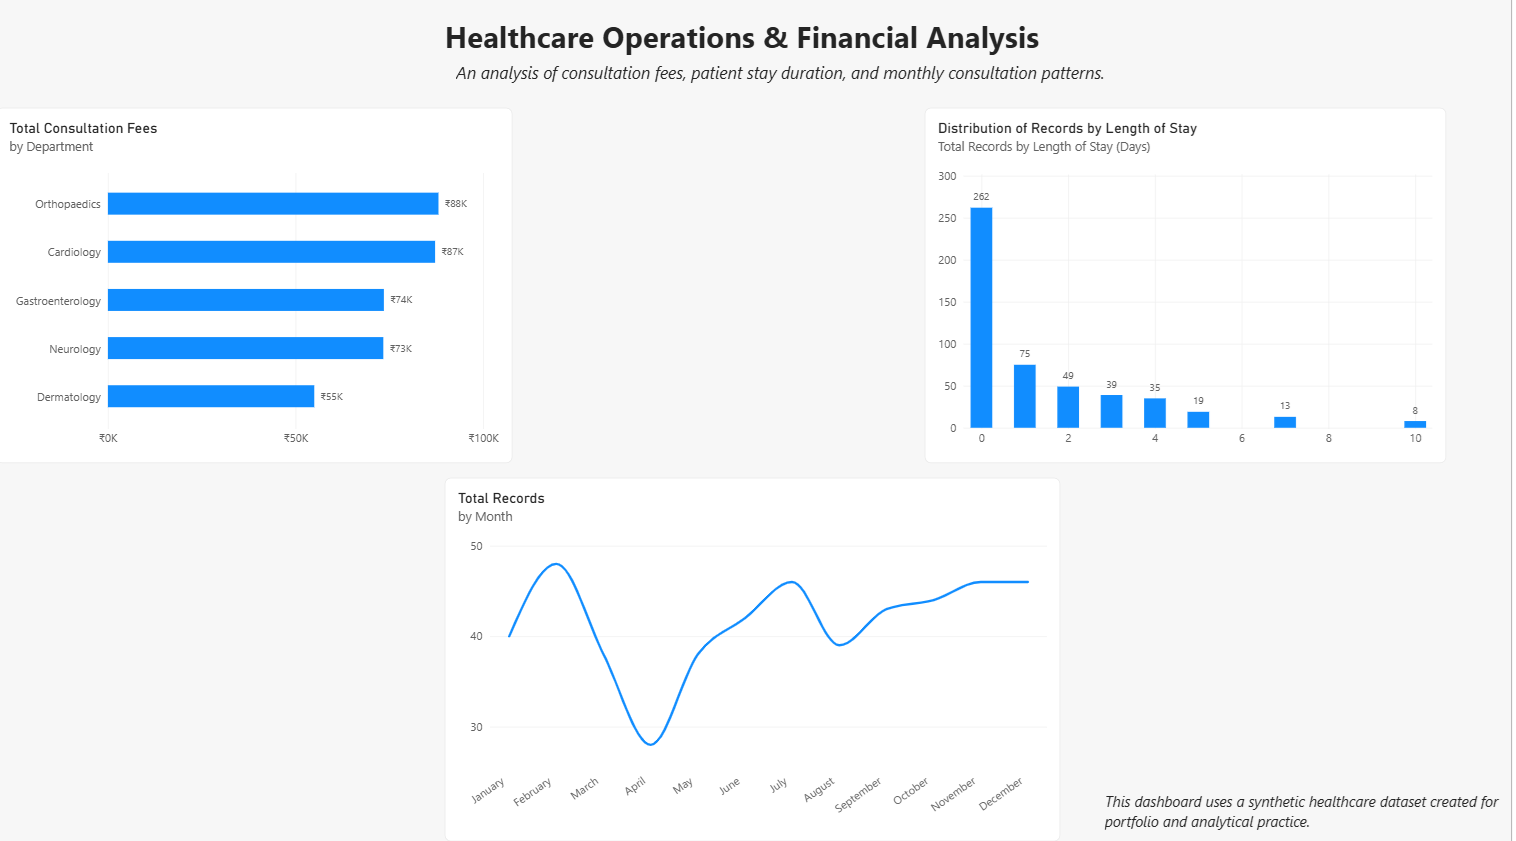

The page's visual inventory and layout, read from the dashboard file:
{"tool":"powerbi","page":{"name":"Operational Analysis","canvas":[1920,1080],"ordinal":1},"visuals":[{"type":"clusteredBarChart","fields":{"Category":["Raw_Patient_Data.Department"],"Y":["Raw_Patient_Data.Total Consultation Fees"]},"box":[0,150.3,654.5,450.8],"z":0},{"type":"clusteredColumnChart","title":"Distribution of Records by Length of Stay","fields":{"Category":["Raw_Patient_Data.Length of Stay (Days)"],"Y":["Raw_Patient_Data.Total Records"]},"box":[1177.4,150.3,660.7,450.8],"z":1000},{"type":"lineChart","fields":{"Category":["Raw_Patient_Data.Consultation Date.Variation.Date Hierarchy.Month"],"Y":["Raw_Patient_Data.Total Records"]},"box":[568.1,619.6,780.1,461.1],"z":2000},{"type":"textbox","box":[568.1,35,780.1,55.6],"z":3000},{"type":"textbox","box":[582.5,90.6,854.2,49.4],"z":4000},{"type":"textbox","box":[1348,0,519,150],"z":5000},{"type":"textbox","box":[1405.8,1016.8,514.6,63.8],"z":6000}]}

Visuals, with their boxes in screenshot pixels (x1, y1, x2, y2), scaled from the page's 1920x1080 canvas onto the 1516x841 screenshot:
clusteredBarChart - Raw_Patient_Data.Department x Raw_Patient_Data.Total Consultation Fees: pyautogui.locateOnScreen(0, 117, 517, 468)
"Distribution of Records by Length of Stay" clusteredColumnChart: pyautogui.locateOnScreen(930, 117, 1451, 468)
lineChart - Raw_Patient_Data.Consultation Date.Variation.Date Hierarchy.Month x Raw_Patient_Data.Total Records: pyautogui.locateOnScreen(449, 482, 1065, 840)
textbox: pyautogui.locateOnScreen(449, 27, 1065, 71)
textbox: pyautogui.locateOnScreen(460, 71, 1134, 109)
textbox: pyautogui.locateOnScreen(1064, 0, 1474, 117)
textbox: pyautogui.locateOnScreen(1110, 792, 1515, 840)
